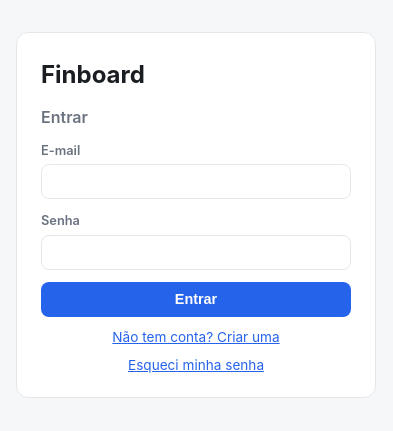
AuthScreen › limpa o erro anterior ao trocar de modo
The width and height of the screenshot is (393, 431).
Type "lucas@example.com" into the field labelled "E-mail" at (196, 182), box [41,164,351,199]
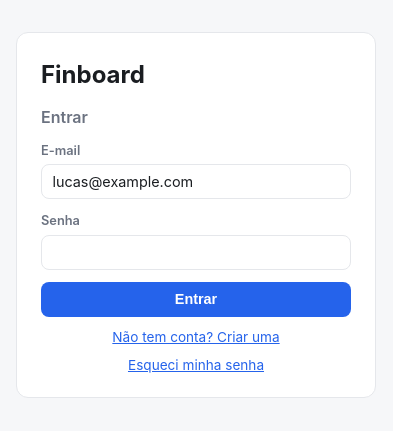
Type "senha-errada-123" into the password field labelled "Senha" at (196, 252), box [41,235,351,270]
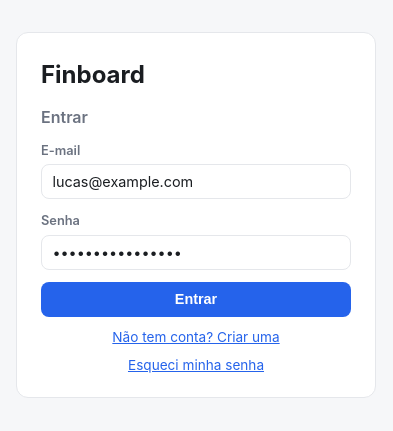
Click the button "Entrar" at (196, 299), box [41,282,351,317]
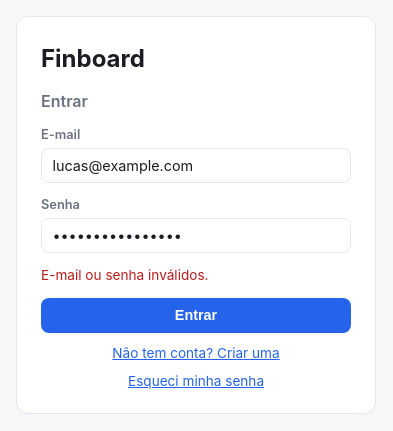
Expected: the message "E-mail ou senha inválidos." is shown, [41,267,208,283]
Click the button "Não tem conta? Criar uma" at (196, 353), box [41,345,351,361]
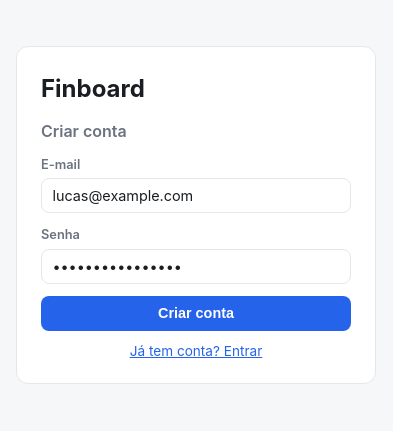
Expected: the message "E-mail ou senha inválidos." is gone
